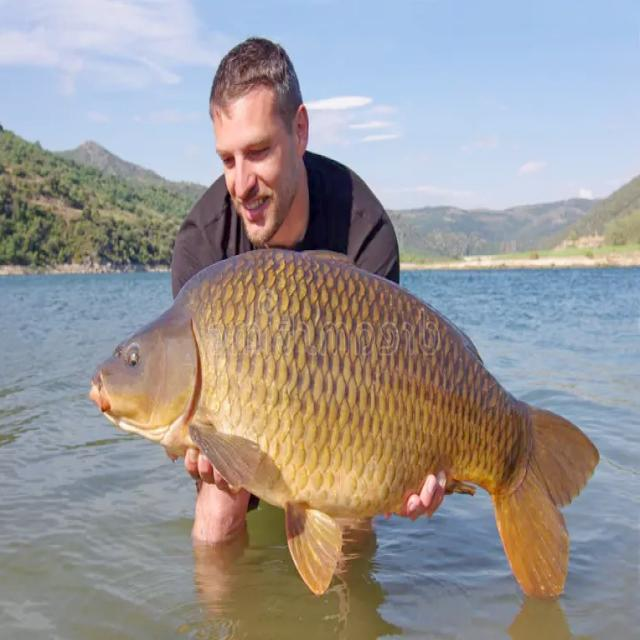Common carp: (89, 252, 600, 595)
